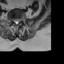CCS_stenosis: (15, 17, 17, 26)
LFS_normal: (19, 17, 21, 23)
LLS_normal: (17, 17, 19, 25)
RFS_stenosis: (11, 17, 13, 23)
RLS_normal: (13, 17, 15, 24)
